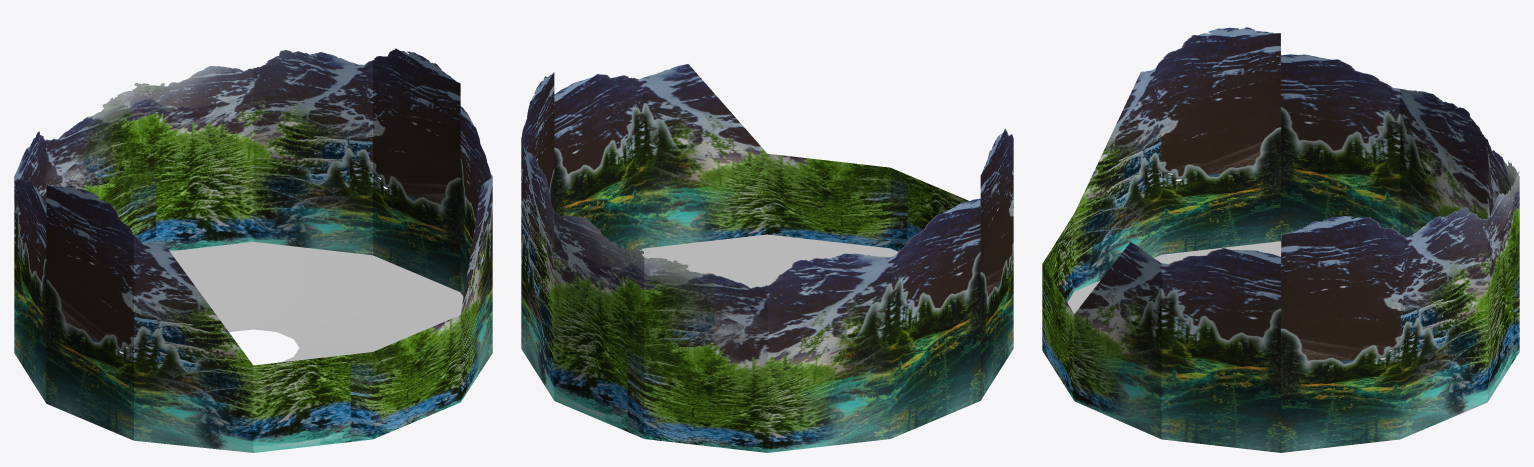
Rendered from arena_fbx.fbx.
3 views of the same model, side by side, from view 1: azimuth 30°, elevation 25°; view 2: azimuth 150°, elevation 25°; view 3: azimuth 270°, elevation 25° (orthographic). The views are drawn at different scales.
Parts seen in each view (by area): view 1: pCylinder1; view 2: pCylinder1; view 3: pCylinder1.
Part boxes in pixels (left/top/right/bottom): pCylinder1: left=14, top=48, right=492, bottom=452; pCylinder1: left=521, top=64, right=1013, bottom=452; pCylinder1: left=1042, top=27, right=1519, bottom=452.
Bounding box in the file's own units: 42.27 × 23.21 × 42.27.
